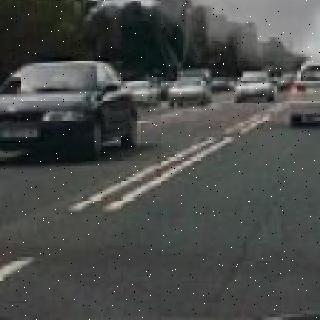smoke: (108, 0, 320, 40)
